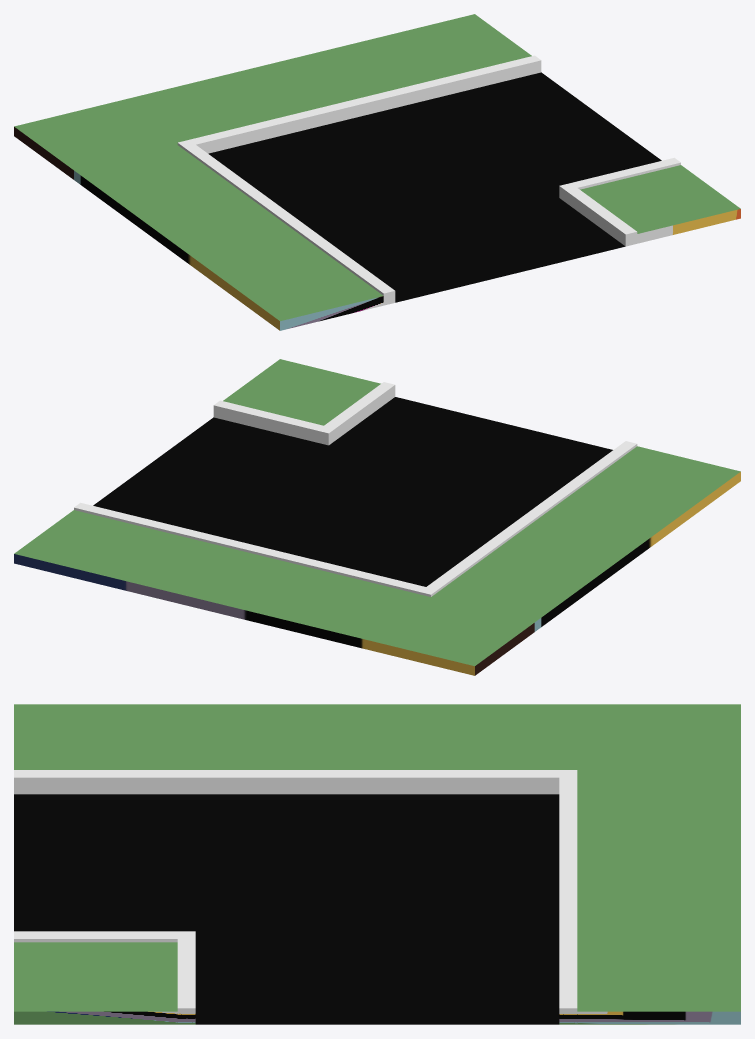
Rendered from Corner.glb.
The picture shows the model from 3 angles, top to bottom: view 1: azimuth 30°, elevation 25°; view 2: azimuth 150°, elevation 25°; view 3: azimuth 270°, elevation 25°; orthographic projection. The views are drawn at different scales.
Parts seen in each view (by area): view 1: Corner; view 2: Corner; view 3: Corner.
Part boxes in pixels (x1,y1,x2,y2): Corner: [14, 14, 740, 330]; Corner: [14, 359, 740, 675]; Corner: [14, 704, 740, 1024].
Size of the model in its own units: 10 by 0.25 by 10.
1 material, 1 textured.
